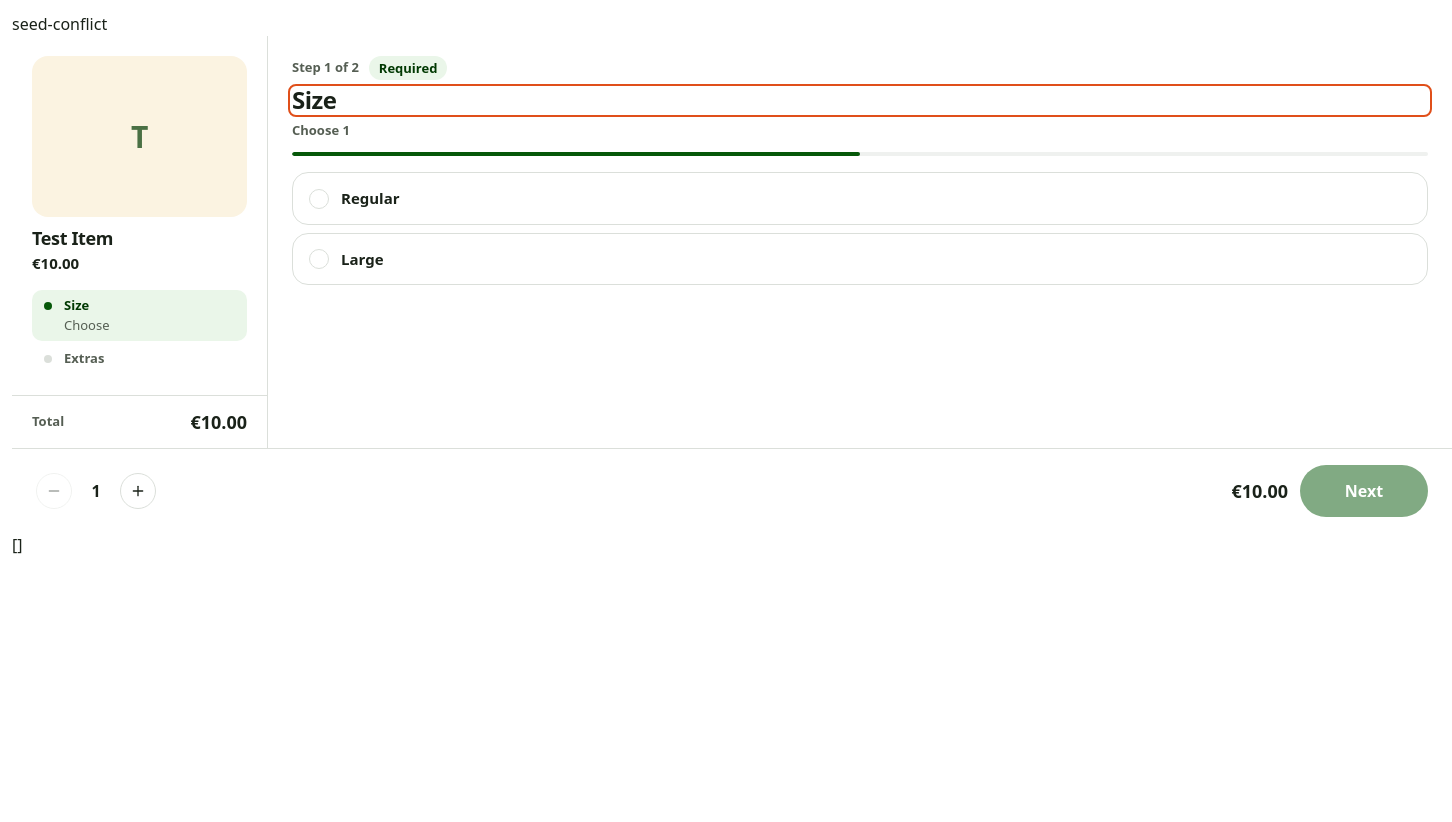
Test case: Back › returns to the previous step with selections intact and no bounce
The image size is (1452, 822).
Click the radio button labelled "Regular": [370, 198] box x1=292 y1=172 x2=1428 y2=225
Wait 400 ms
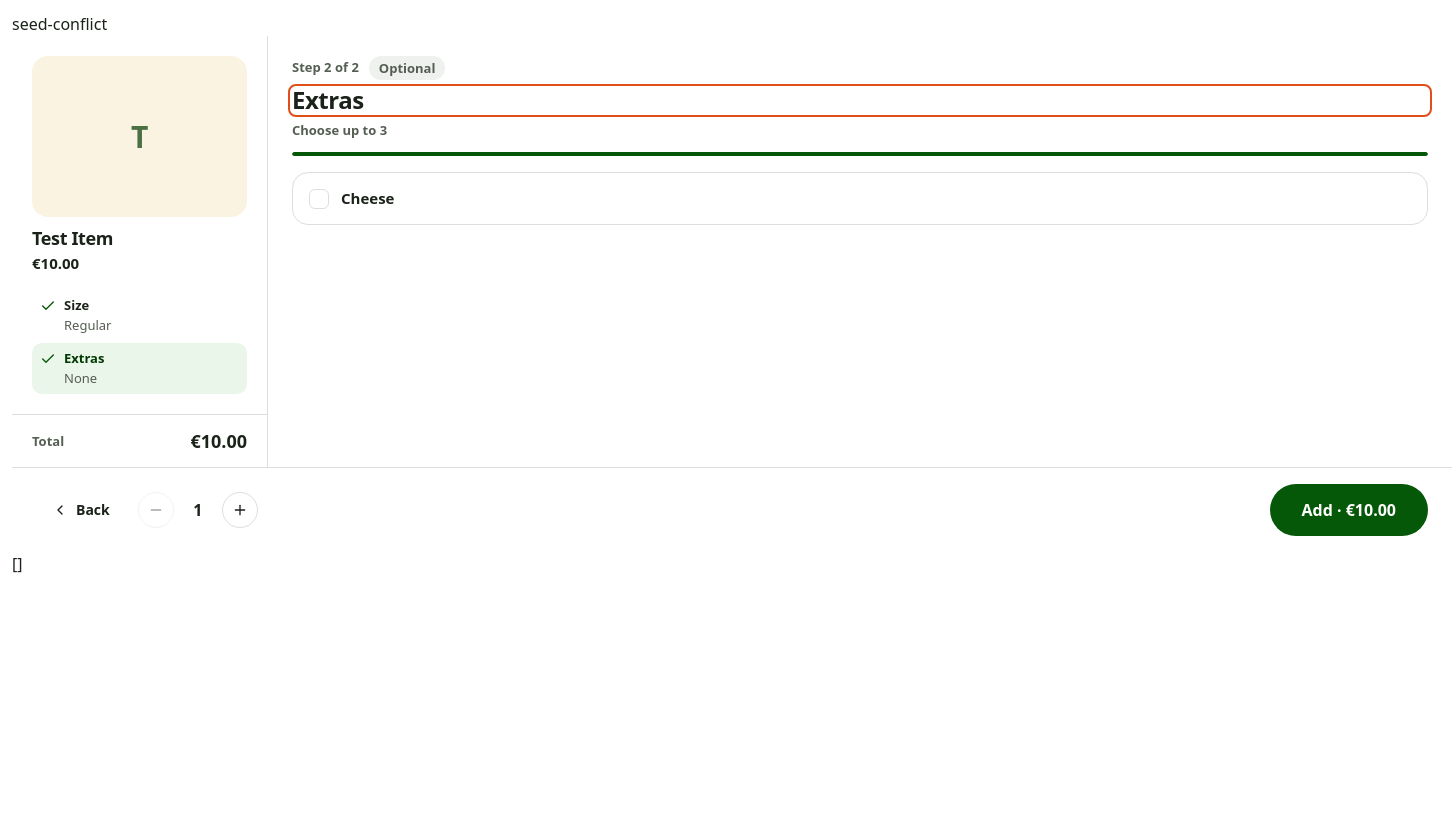
expect the heading "Extras" is shown: met, box x1=292 y1=83 x2=364 y2=116
Click the button with aria-label "back to the previous step": [81, 510] box x1=36 y1=492 x2=126 y2=528
Wait 400 ms
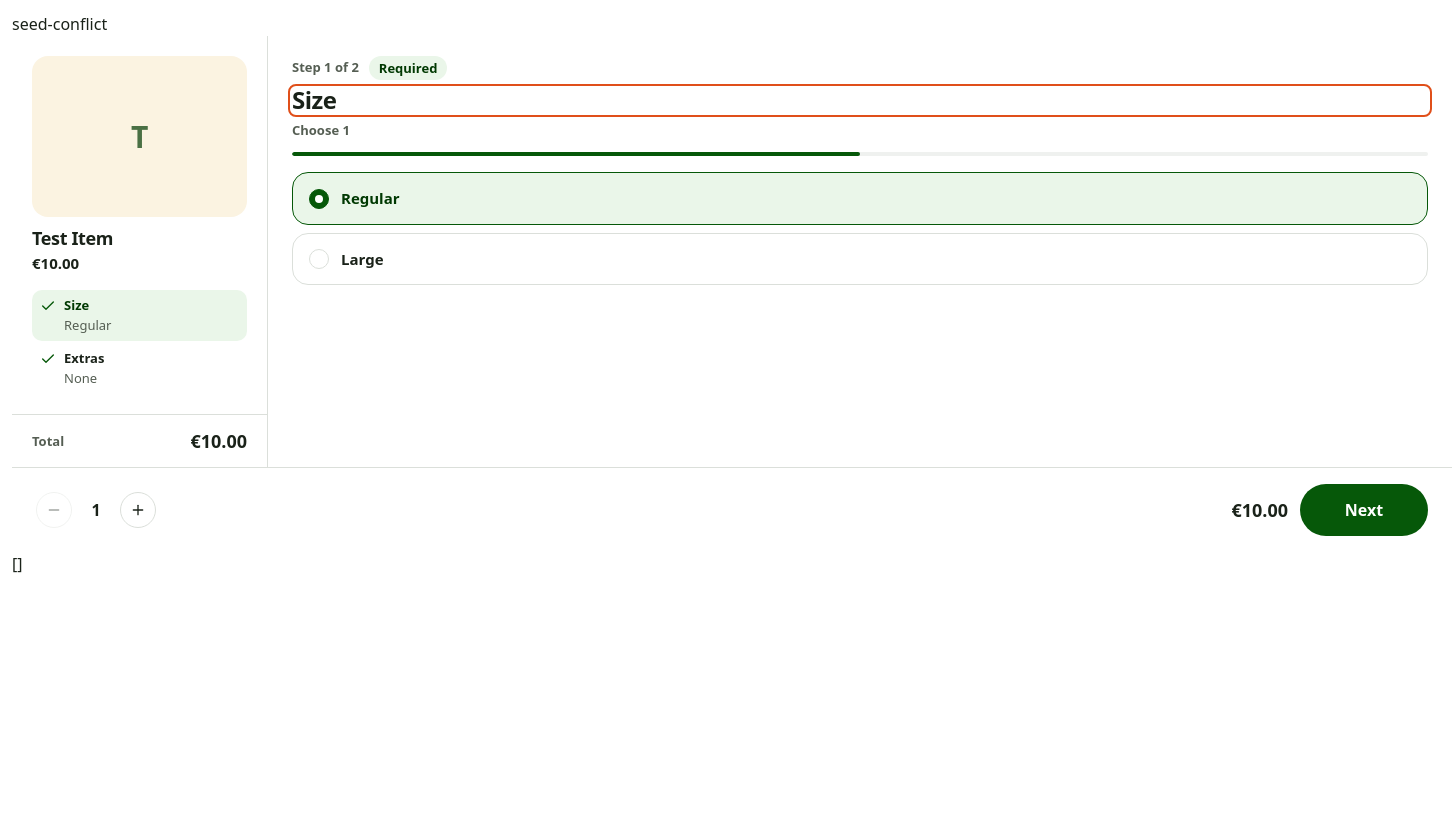
expect the radio button labelled "Regular" is checked: met, box x1=292 y1=172 x2=1428 y2=225
expect the heading "Size" is shown: met, box x1=292 y1=83 x2=336 y2=116
